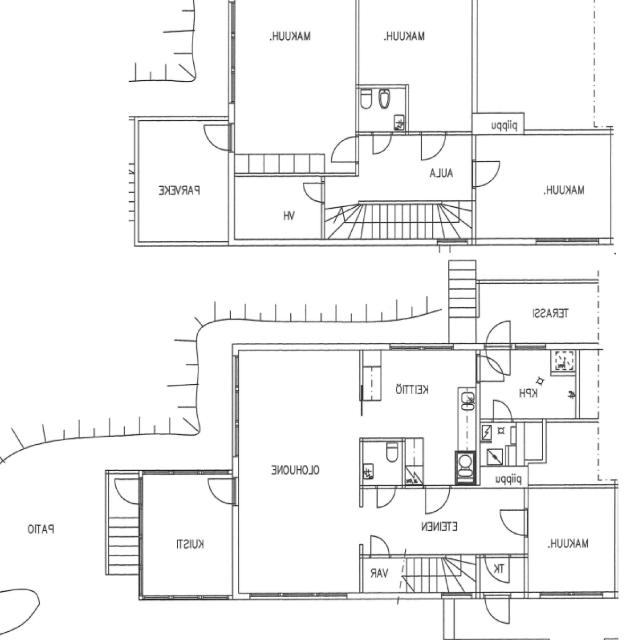door: (485, 592, 510, 626), (204, 124, 236, 150), (486, 343, 511, 375), (486, 318, 511, 349), (208, 479, 238, 504), (421, 131, 446, 161), (476, 355, 504, 381), (472, 161, 500, 187), (115, 479, 144, 503), (501, 510, 528, 535), (486, 554, 510, 582), (426, 485, 450, 513), (332, 137, 358, 162), (377, 484, 396, 508), (494, 400, 512, 422), (371, 535, 389, 557), (374, 132, 392, 153), (305, 184, 325, 202)
